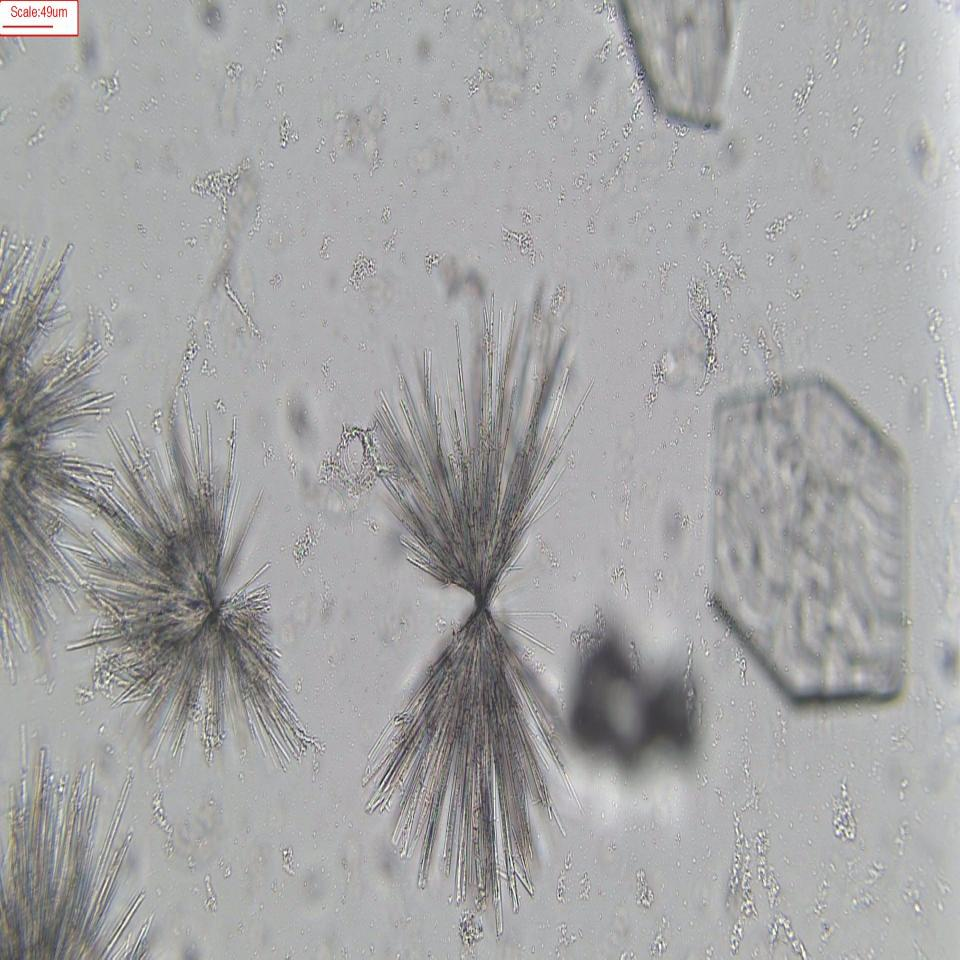crystal: (703, 363, 916, 711)
